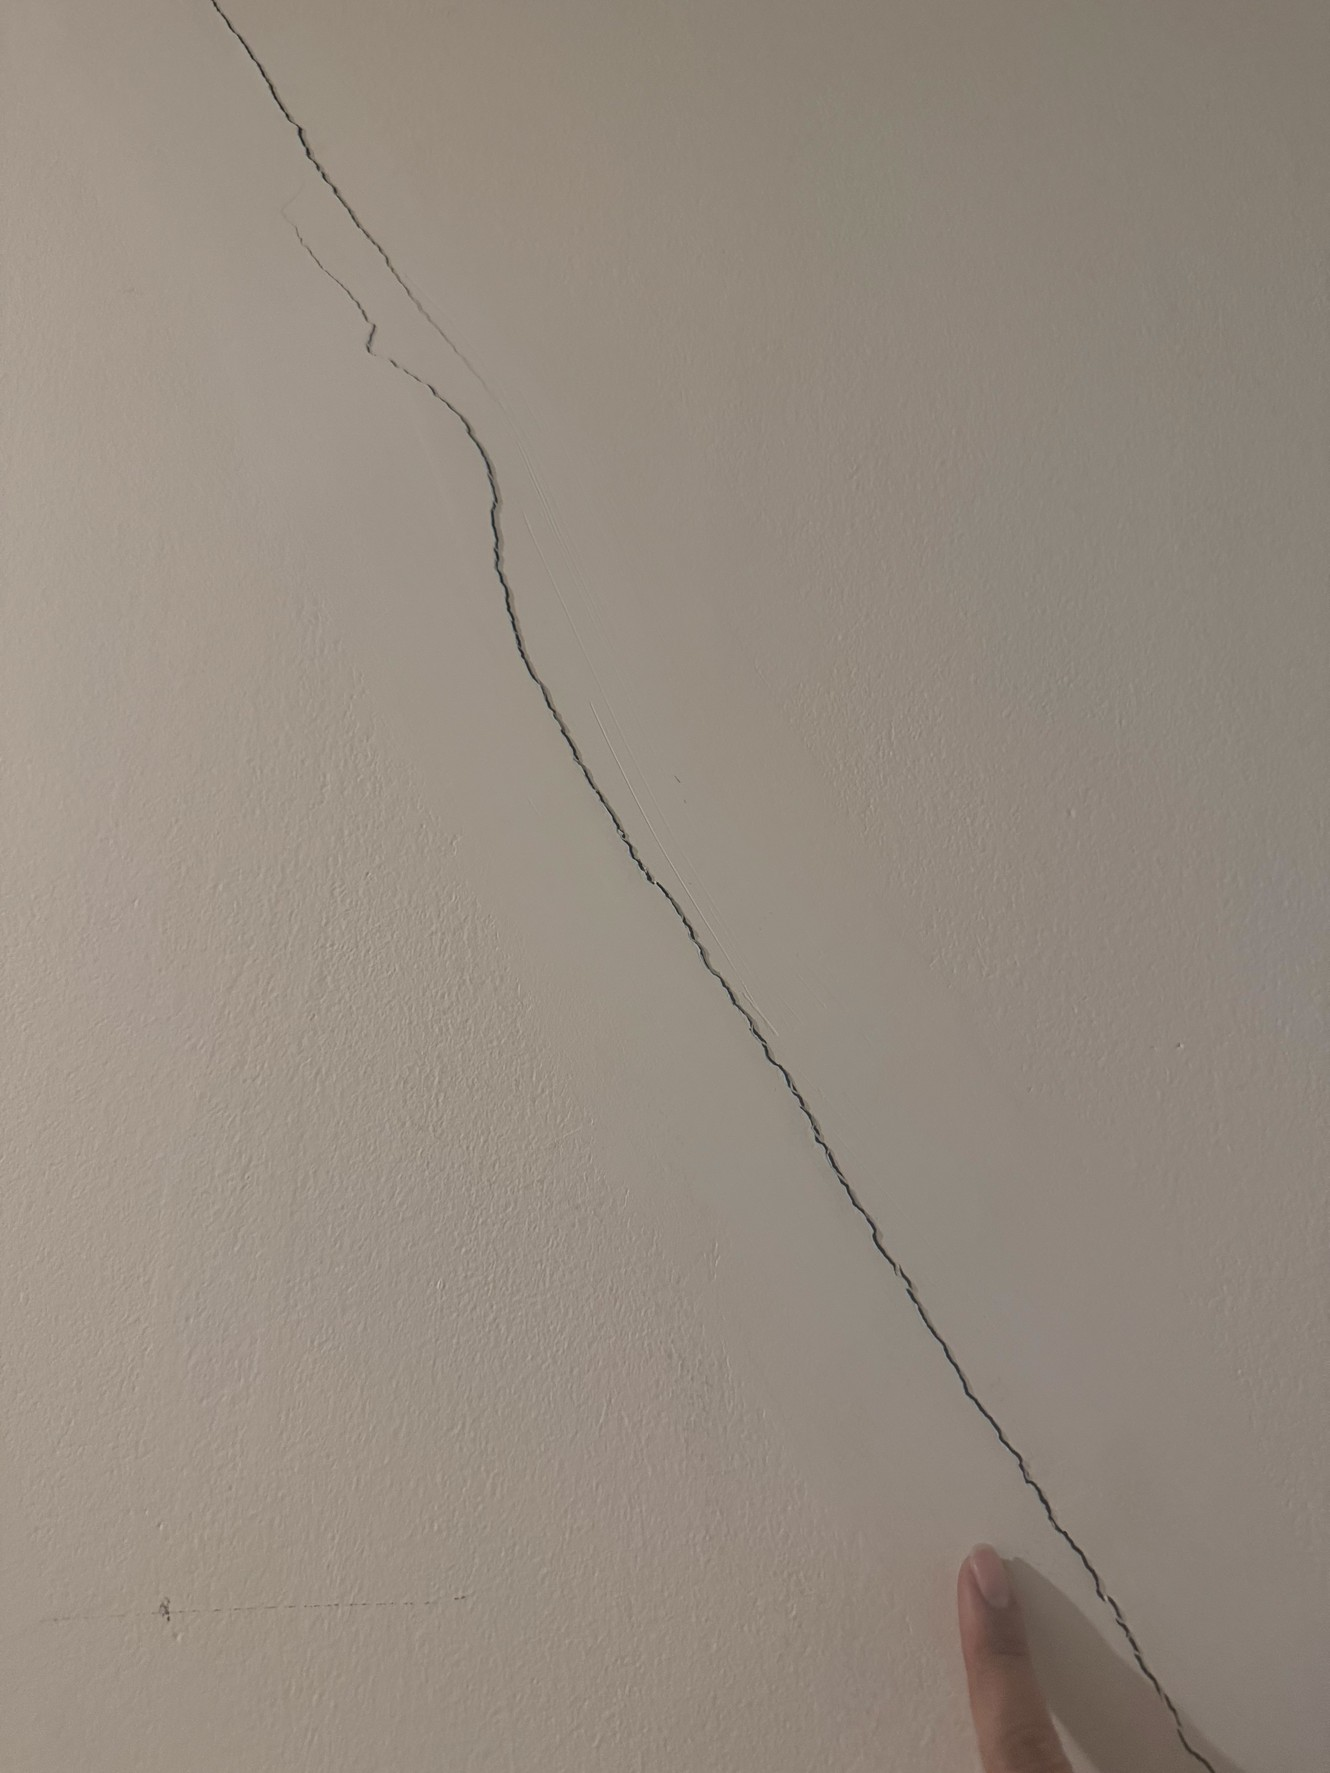Low: (205, 7, 1236, 1773)
